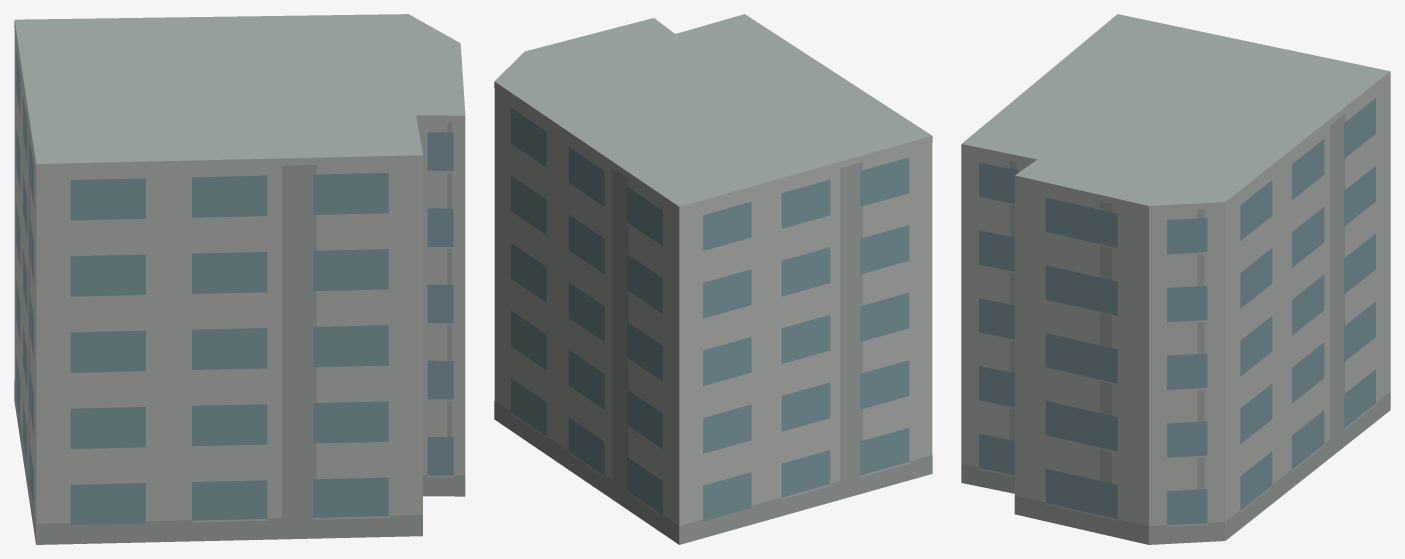
Rendered from survey-upis-32727968.glb.
3 renders of one model, left to right at view 1: azimuth 30°, elevation 25°; view 2: azimuth 150°, elevation 25°; view 3: azimuth 270°, elevation 25°, orthographic. The views are drawn at different scales.
Visible parts, largest first — view 1: survey-upis-32727968.tmp; view 2: survey-upis-32727968.tmp; view 3: survey-upis-32727968.tmp.
Boxes of the visible parts, bbox=[...] form: survey-upis-32727968.tmp: bbox=[14, 14, 465, 544]; survey-upis-32727968.tmp: bbox=[494, 14, 932, 544]; survey-upis-32727968.tmp: bbox=[961, 14, 1390, 544].
Size of the model in its own units: 15.56 by 12.8 by 14.7.
